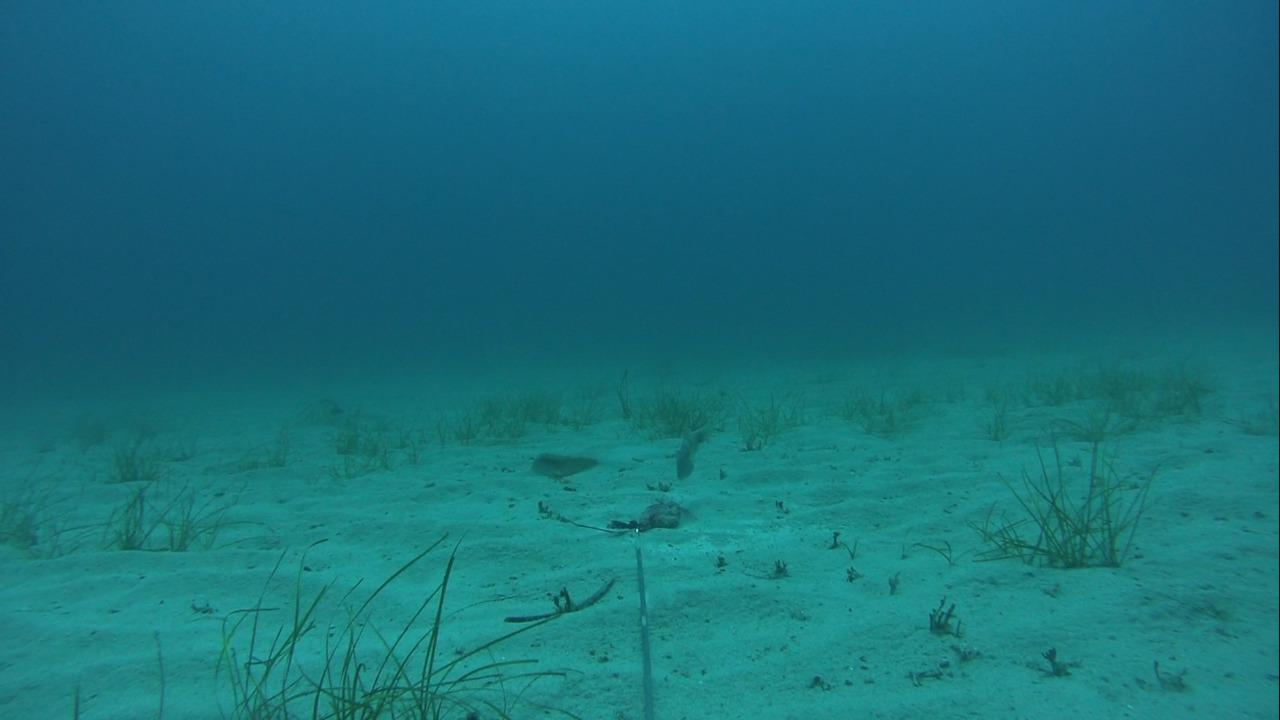raor: (668, 423, 715, 482), (523, 446, 602, 479)
